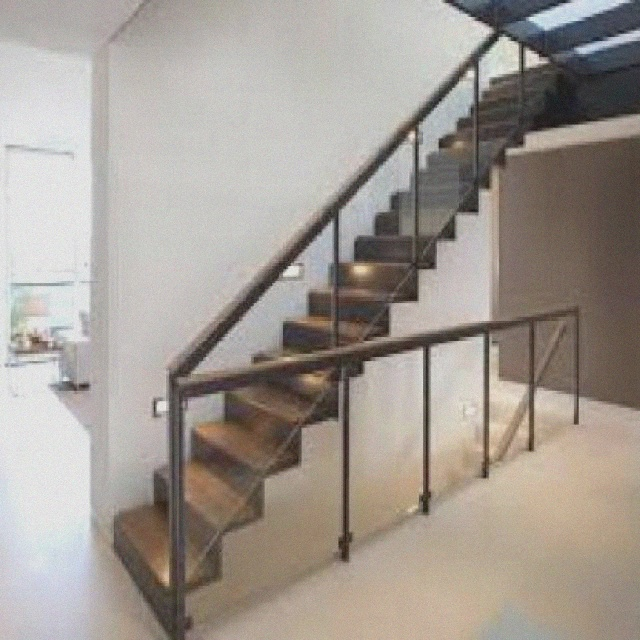stair: (83, 42, 572, 632)
